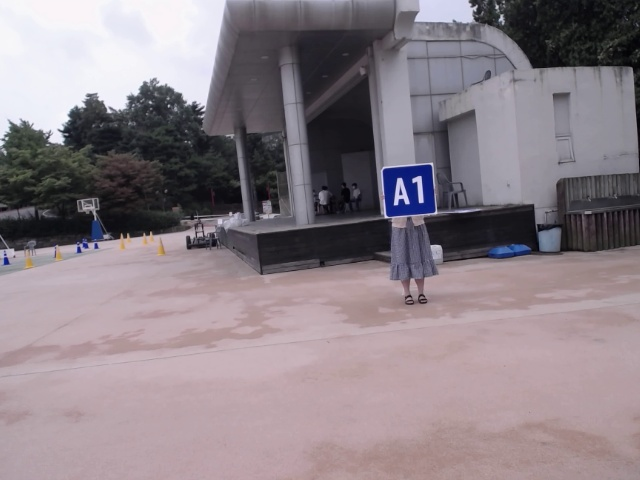delivery_a1: (382, 162, 436, 218)
